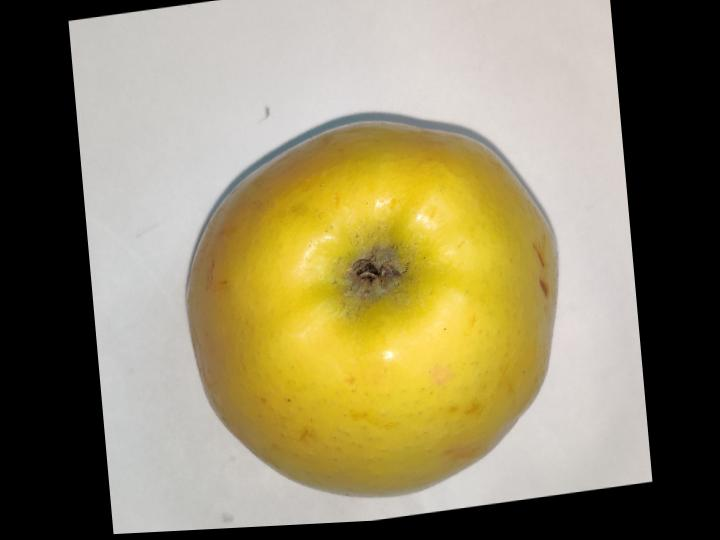apple: (188, 120, 556, 496)
